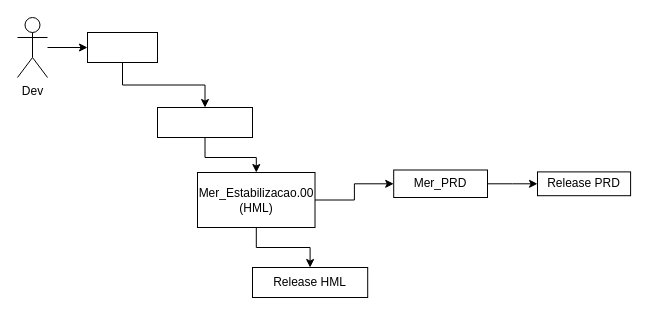
The diagram is 649 pixels wide and 315 high, and some of its shapes have lost their labels. The centre of each missing label's shape, as x and y in pixels:
"Branch de dev" goes at [204,122].
"Master" goes at [122,47].
